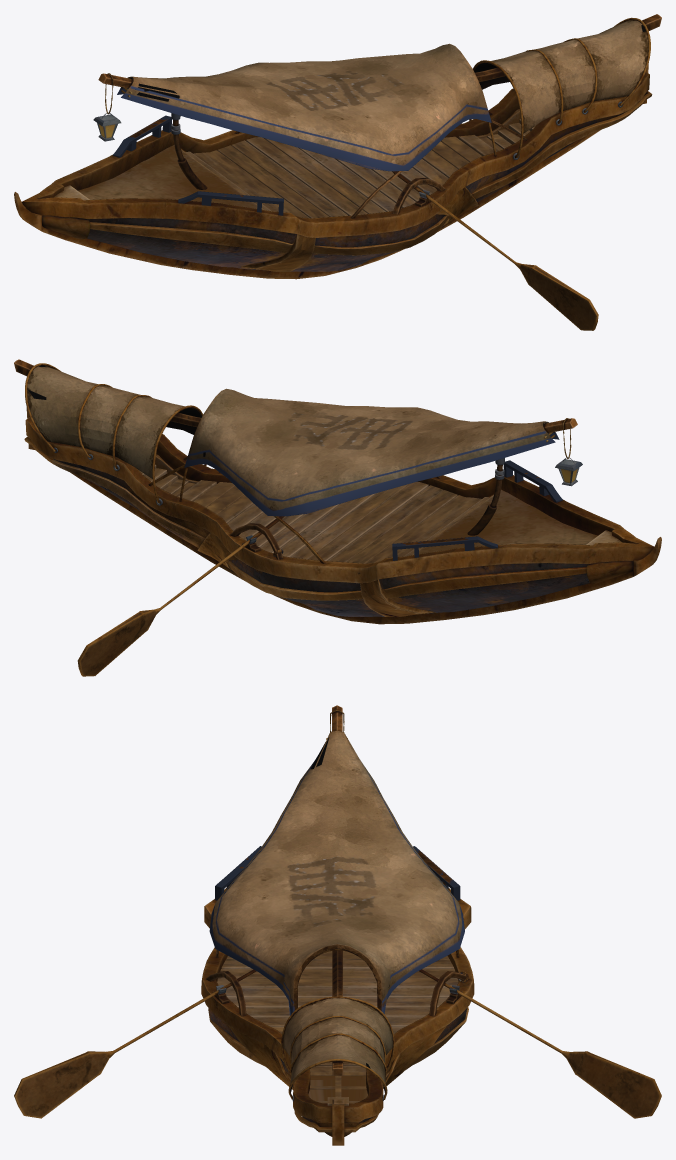
The picture shows the model from 3 angles, top to bottom: view 1: azimuth 30°, elevation 25°; view 2: azimuth 150°, elevation 25°; view 3: azimuth 270°, elevation 25°; orthographic projection. The views are drawn at different scales.
Visible parts, largest first — view 1: Boat_LP (×10), Boat_toRender:textureEditorIsolateSelectSet (×2); view 2: Boat_LP (×10), Boat_toRender:textureEditorIsolateSelectSet (×2); view 3: Boat_LP (×10), Boat_toRender:textureEditorIsolateSelectSet.
Boxes of the visible parts, box(x1,y1,x2,y2) form: Boat_LP (×10): box(14, 14, 661, 330); Boat_toRender:textureEditorIsolateSelectSet (×2): box(87, 177, 446, 271); Boat_LP (×10): box(14, 359, 661, 676); Boat_toRender:textureEditorIsolateSelectSet (×2): box(208, 523, 589, 616); Boat_LP (×10): box(14, 705, 661, 1145); Boat_toRender:textureEditorIsolateSelectSet: box(206, 971, 469, 1016).
Bounding box in the file's own units: 3.33 × 1.25 × 2.79.
Materials: 4 (4 with a texture image).
